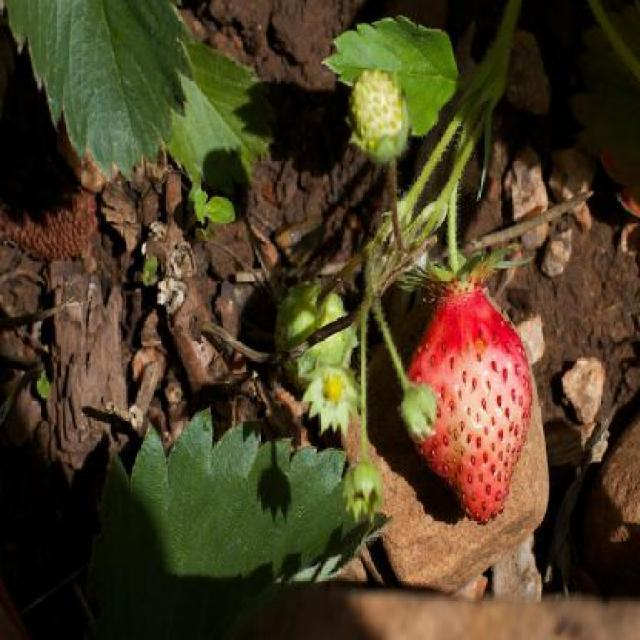Strawberry: (418, 258, 534, 526), (273, 276, 367, 389), (350, 69, 407, 169)
